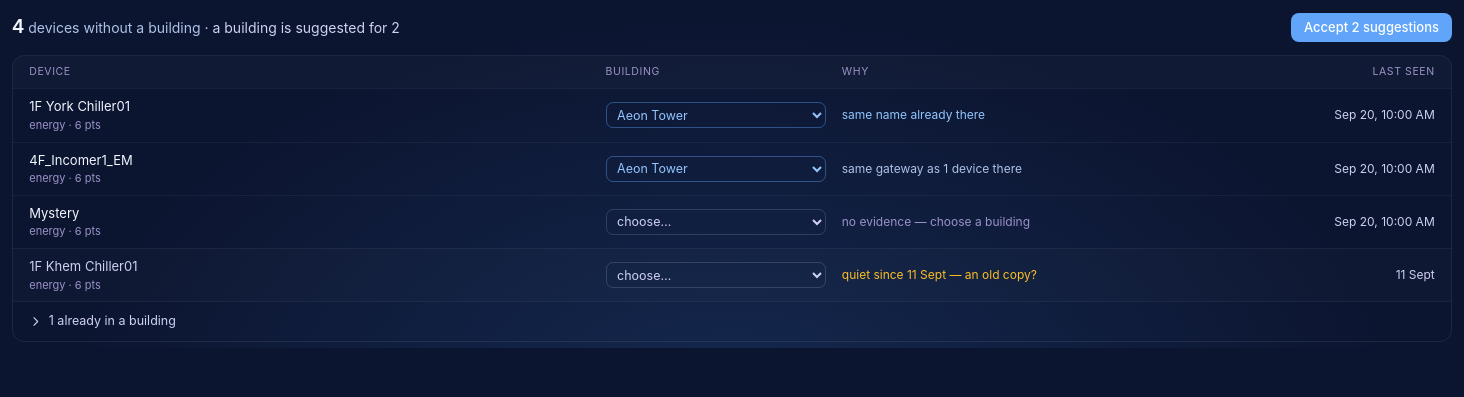
Test: saving › names the refusal when the server refuses
The width and height of the screenshot is (1464, 397).
Step 1. Click the button "Accept 2 suggestions" → {"x": 1371, "y": 28}, box [1291,13,1452,42]
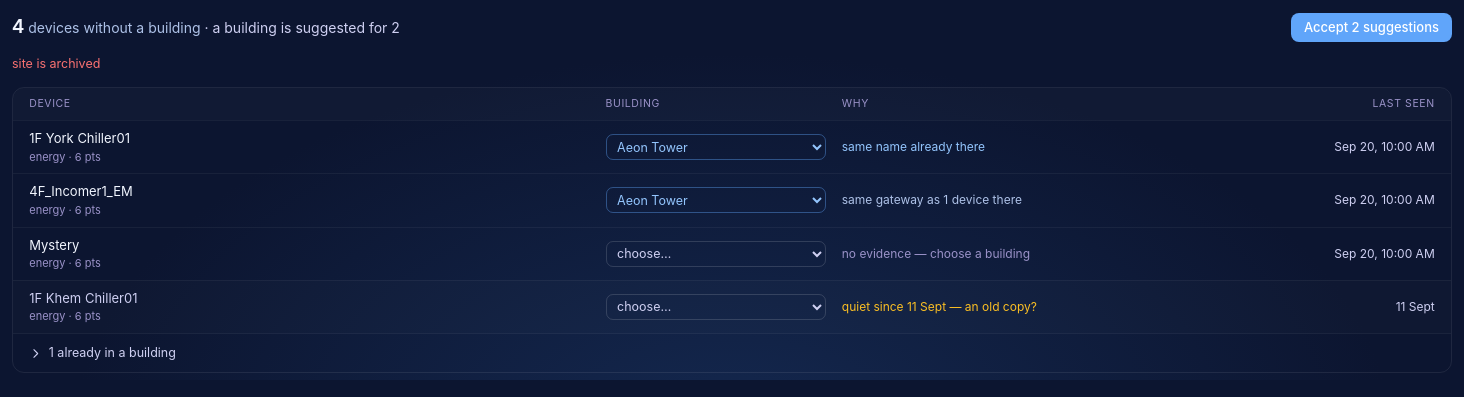
Expected: the text "site is archived" is shown, [12,56,100,71]
